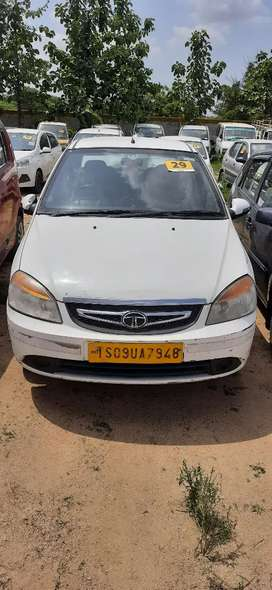TS09UA7948: (87, 343, 186, 363)
